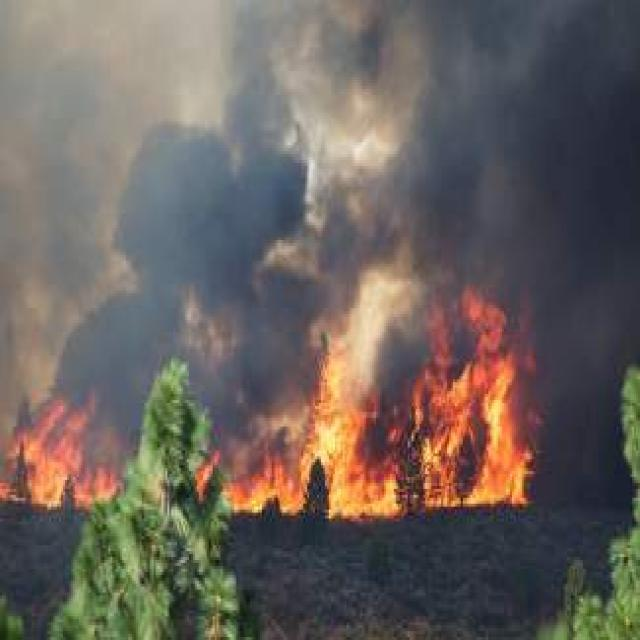Fire: (180, 267, 545, 528), (0, 383, 128, 518)
Smoke: (35, 0, 453, 466), (392, 0, 639, 520)
